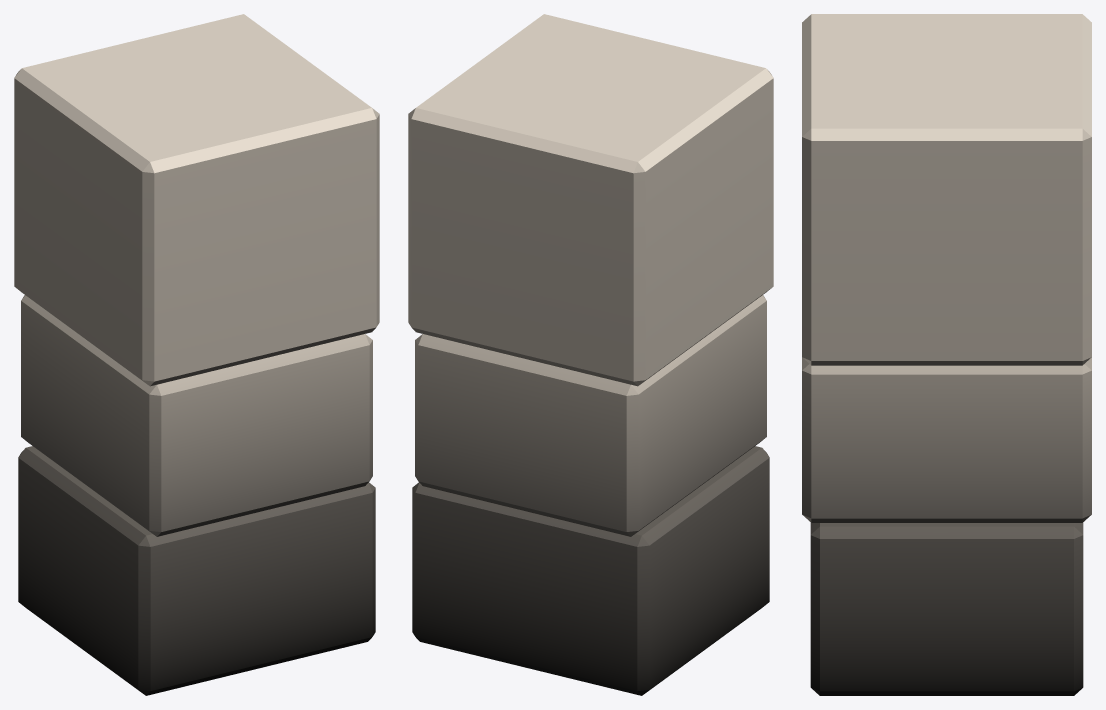
Rendered from SM_VKI_Post_Stone_Corner_Cut.fbx.
3 renders of one model, left to right at view 1: azimuth 30°, elevation 25°; view 2: azimuth 150°, elevation 25°; view 3: azimuth 270°, elevation 25°, orthographic. The views are drawn at different scales.
Visible parts, largest first — view 1: SM_VKI_Post_Stone_Corner_Cut.001; view 2: SM_VKI_Post_Stone_Corner_Cut.001; view 3: SM_VKI_Post_Stone_Corner_Cut.001.
Part boxes in pixels (x1,y1,x2,y2): SM_VKI_Post_Stone_Corner_Cut.001: [14, 14, 379, 695]; SM_VKI_Post_Stone_Corner_Cut.001: [408, 14, 773, 695]; SM_VKI_Post_Stone_Corner_Cut.001: [802, 14, 1091, 695].
Bounding box in the file's own units: 0.62 × 1.34 × 0.62.
